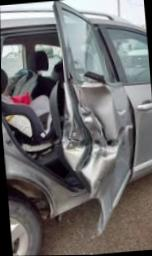Door: (54, 1, 134, 230)
